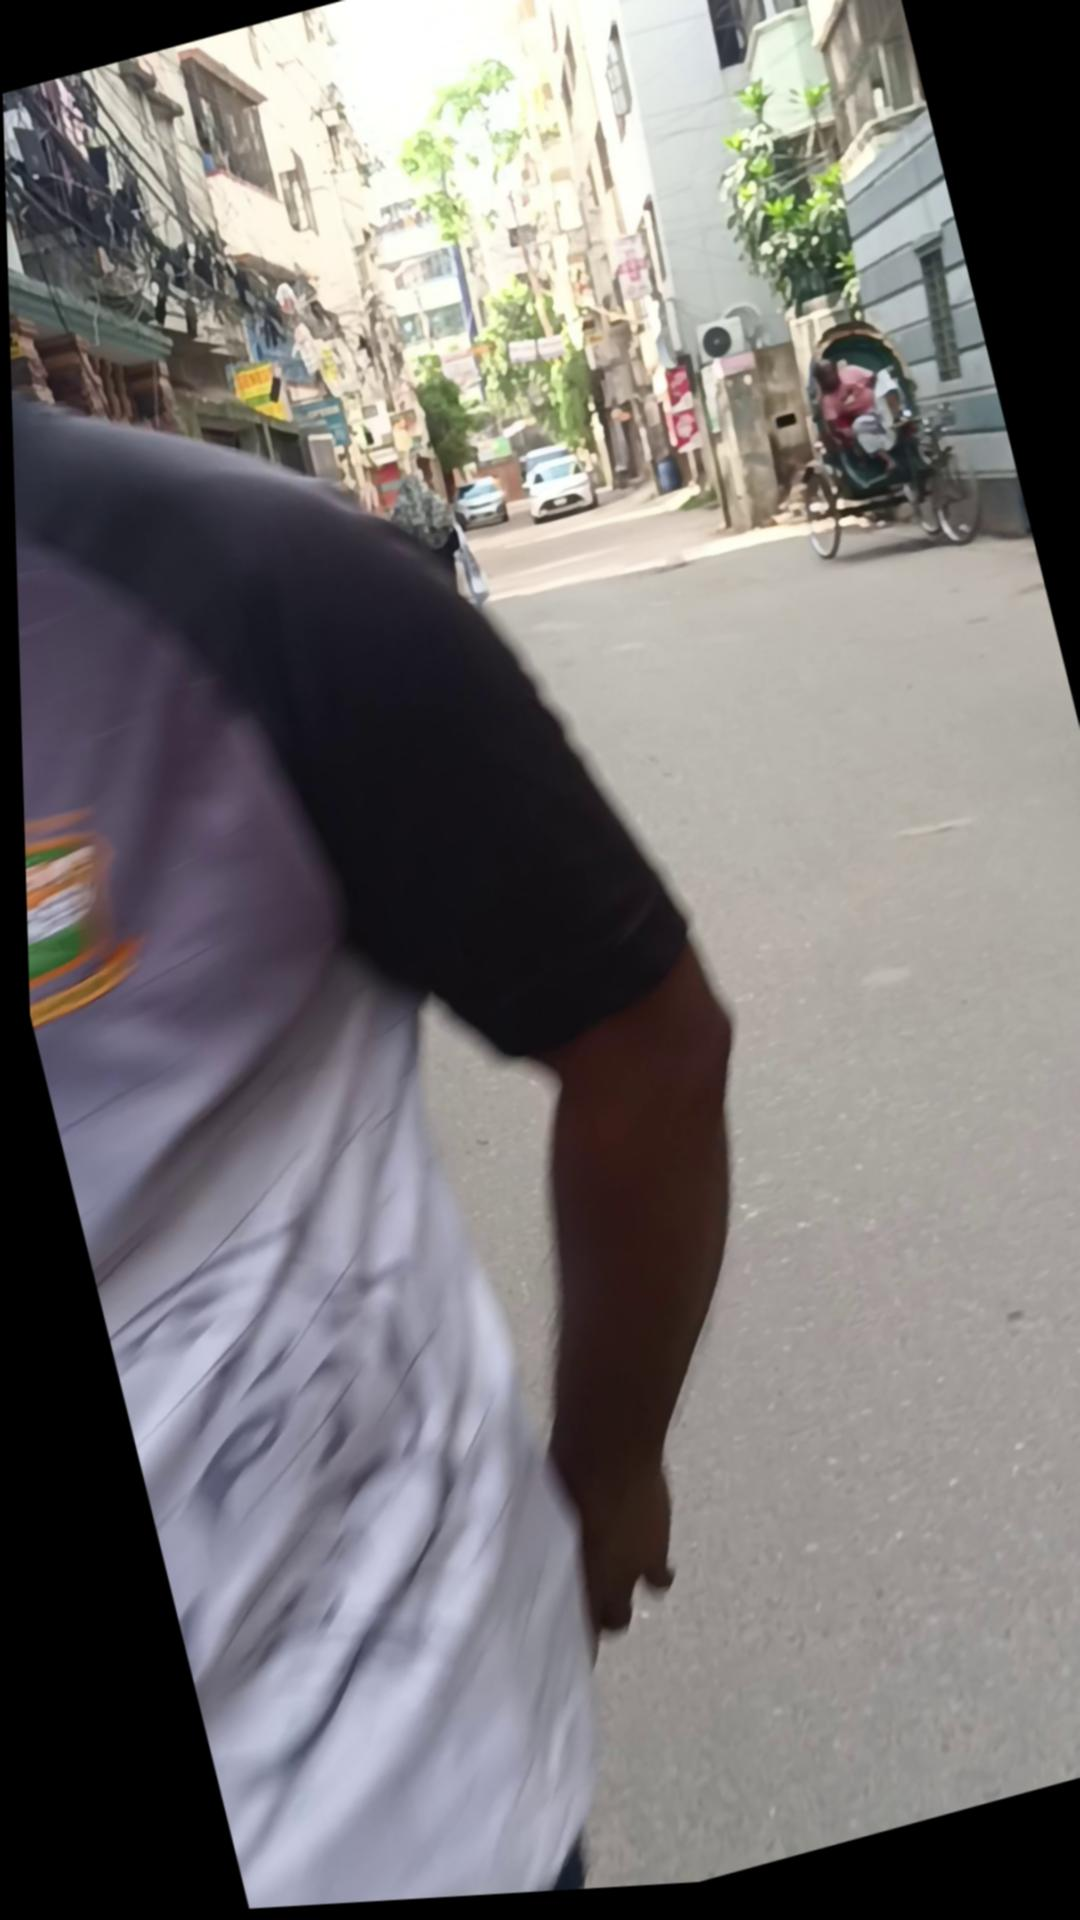Car: (442, 477, 508, 541)
Garbage: (646, 462, 678, 502)
Muddy road: (0, 0, 916, 1920), (800, 347, 931, 537), (373, 460, 471, 615)
Pothole: (754, 303, 989, 597)
